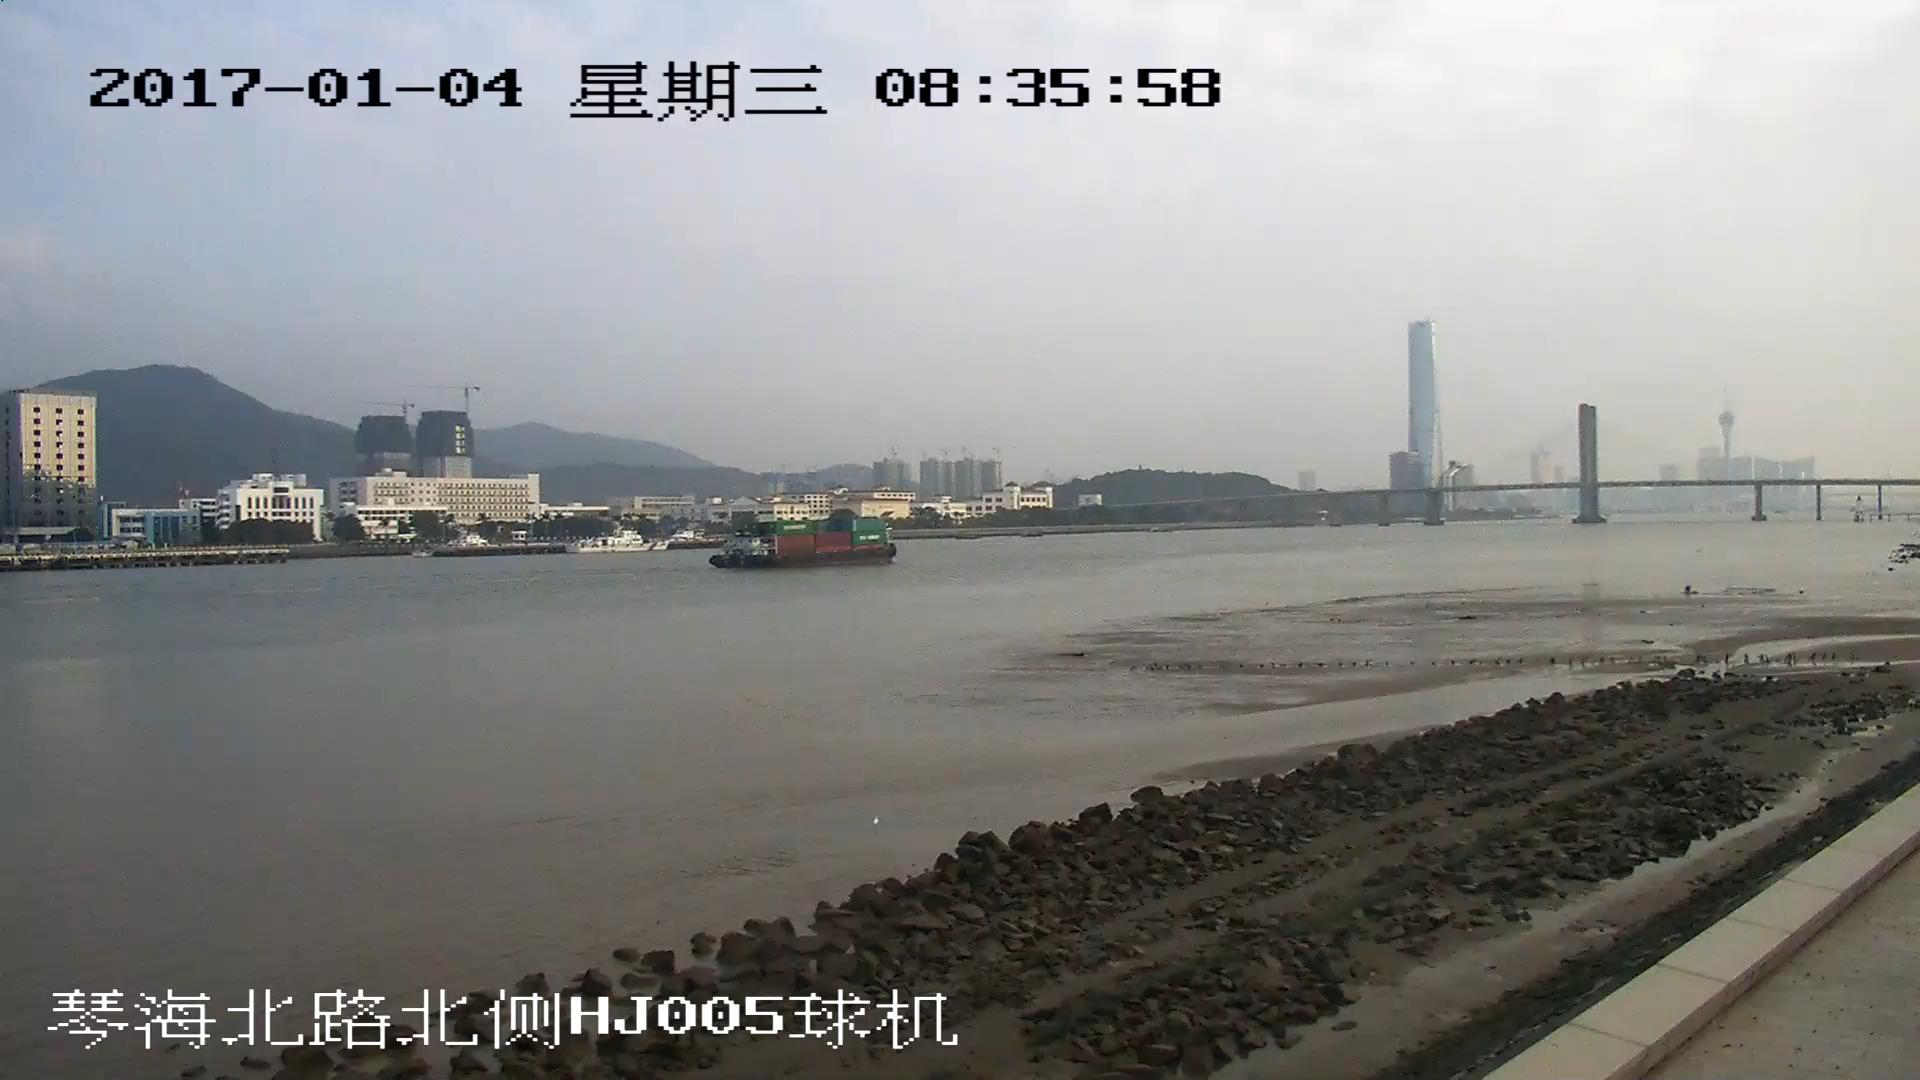Ship: (715, 522, 899, 571)
